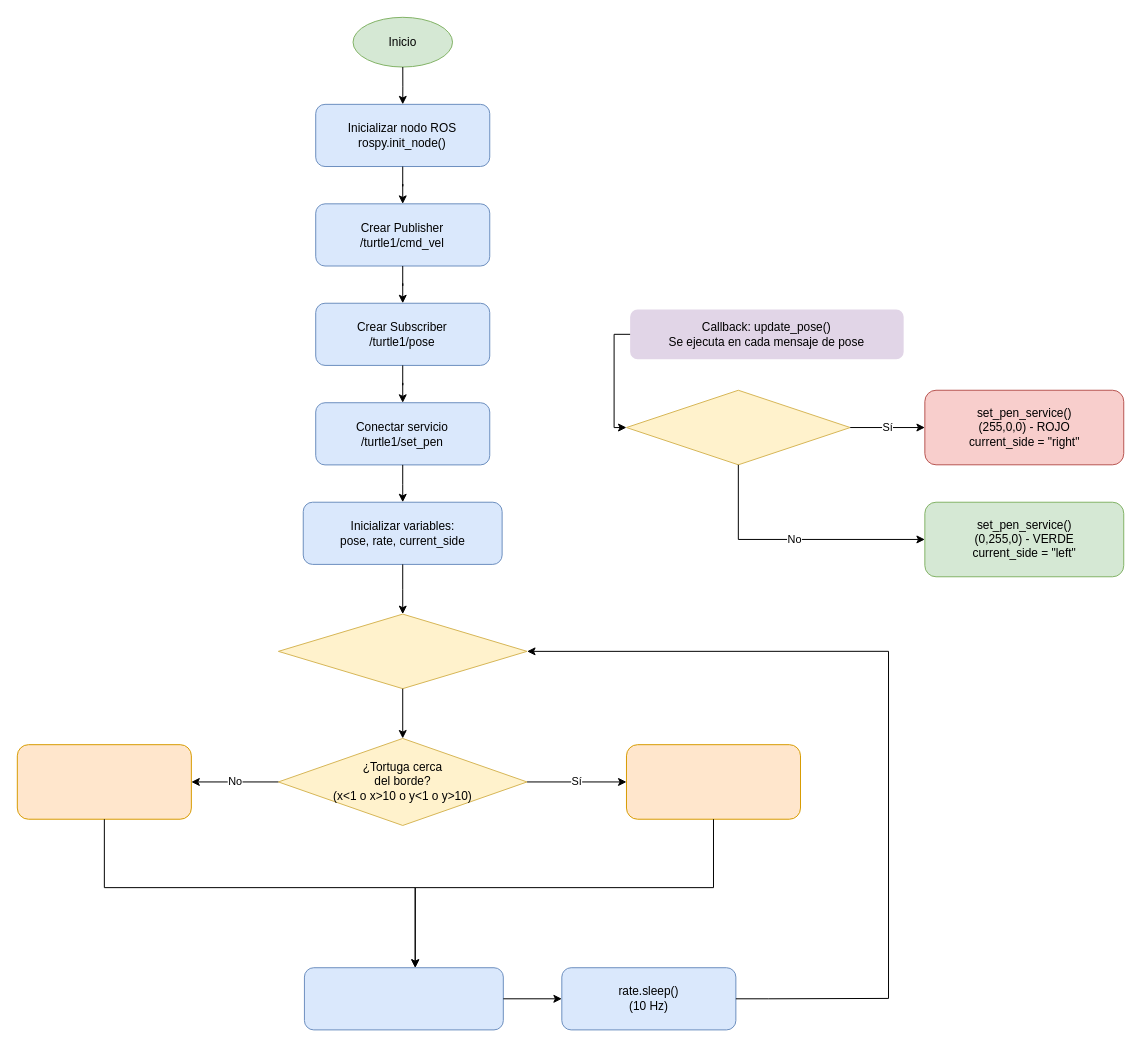
Image size: 1141x1047. Some labels were removed from this diagram. Each missing label, with the centre of its shape:
"Bucle principal while not rospy.is_shutdown()" belongs at (x=402, y=651).
"check_pen_color() ¿x > 5.5 y left?" belongs at (x=737, y=427).
"Comando: linear.x = 1.0 angular.z = 2.0" belongs at (x=713, y=781).
"Comando: linear.x = 2.0 angular.z = 0.0" belongs at (x=103, y=781).
"Publicar comando velocity_publisher.publish()" belongs at (x=403, y=998).
